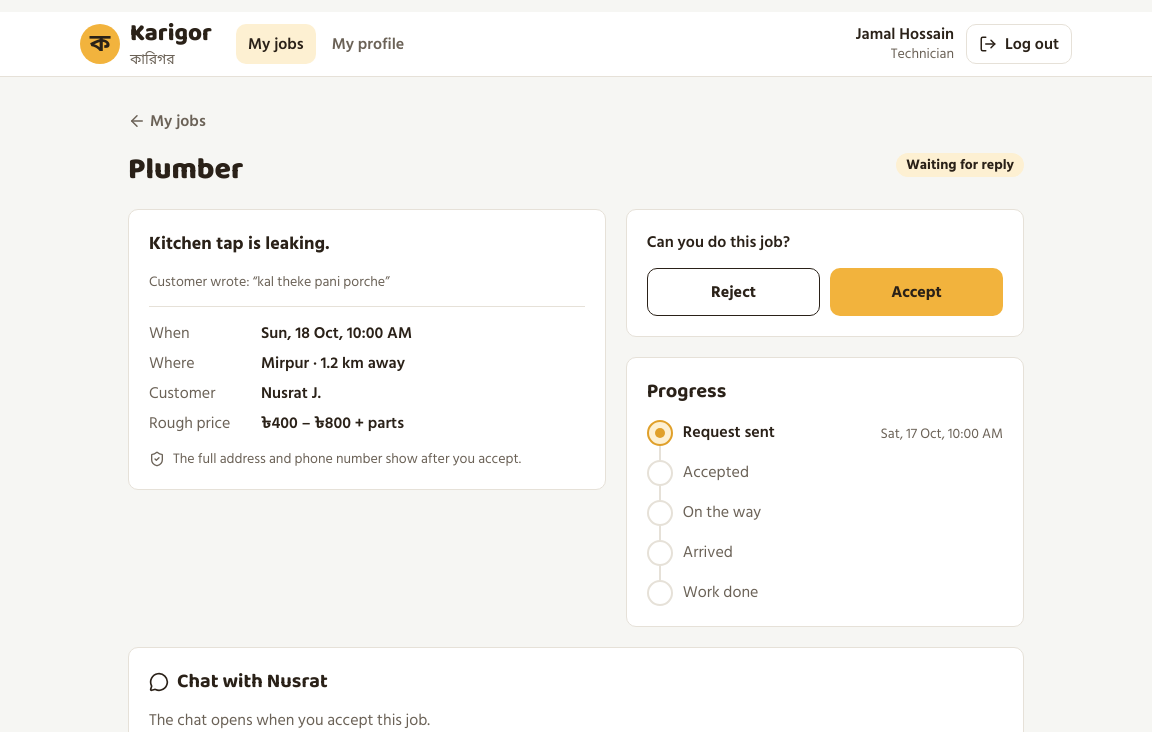
Test: Job details › hides the address until accepting, then shows where to go
The image size is (1152, 732).
Expected: the text "Kitchen tap is leaking." is shown, [149, 229, 330, 258]
Expected: the text "The full address and phone number show after you accept." is shown, [149, 449, 585, 469]
Click the button "Accept" at (916, 292), box [830, 268, 1003, 316]
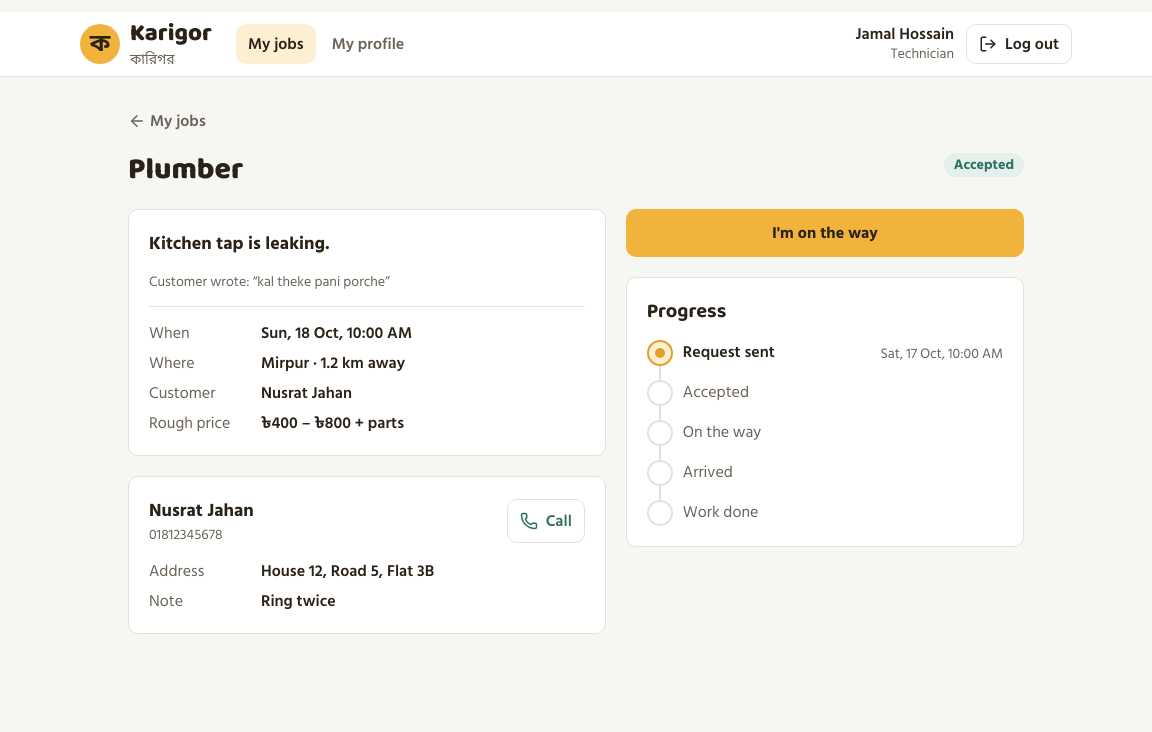
Expected: the text "House 12, Road 5, Flat 3B" is shown, [261, 558, 434, 584]
Expected: the button "I'm on the way" is shown, [626, 209, 1024, 257]
